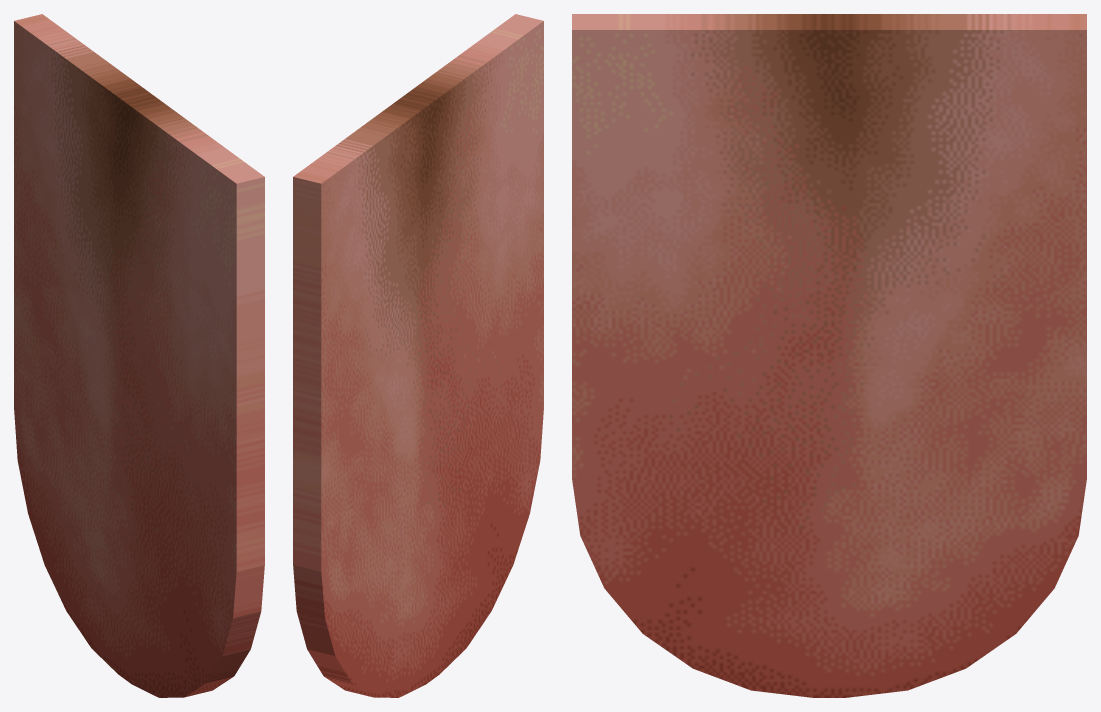
File: Tongue.glb
3 views of the same model, side by side, from view 1: azimuth 30°, elevation 25°; view 2: azimuth 150°, elevation 25°; view 3: azimuth 270°, elevation 25° (orthographic). The views are drawn at different scales.
Parts seen in each view (by area): view 1: Tongue; view 2: Tongue; view 3: Tongue.
Part boxes in pixels (<box>): Tongue: <box>14,14,264,697</box>; Tongue: <box>293,14,543,697</box>; Tongue: <box>572,14,1086,697</box>.
Bounding box in the file's own units: 0.00633 × 0.1234 × 0.0862.
Materials: 1 (1 with a texture image).
